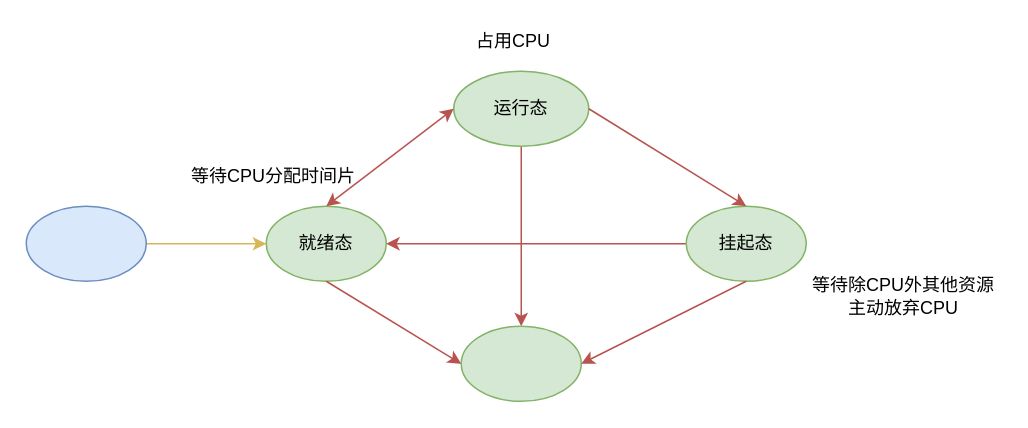
Image size: 1028x428. Some labels were removed from this diagram. The centre of each missing label's shape, as x and y in pixels:
"初始态" goes at (85,243).
"终止态" goes at (520,363).
